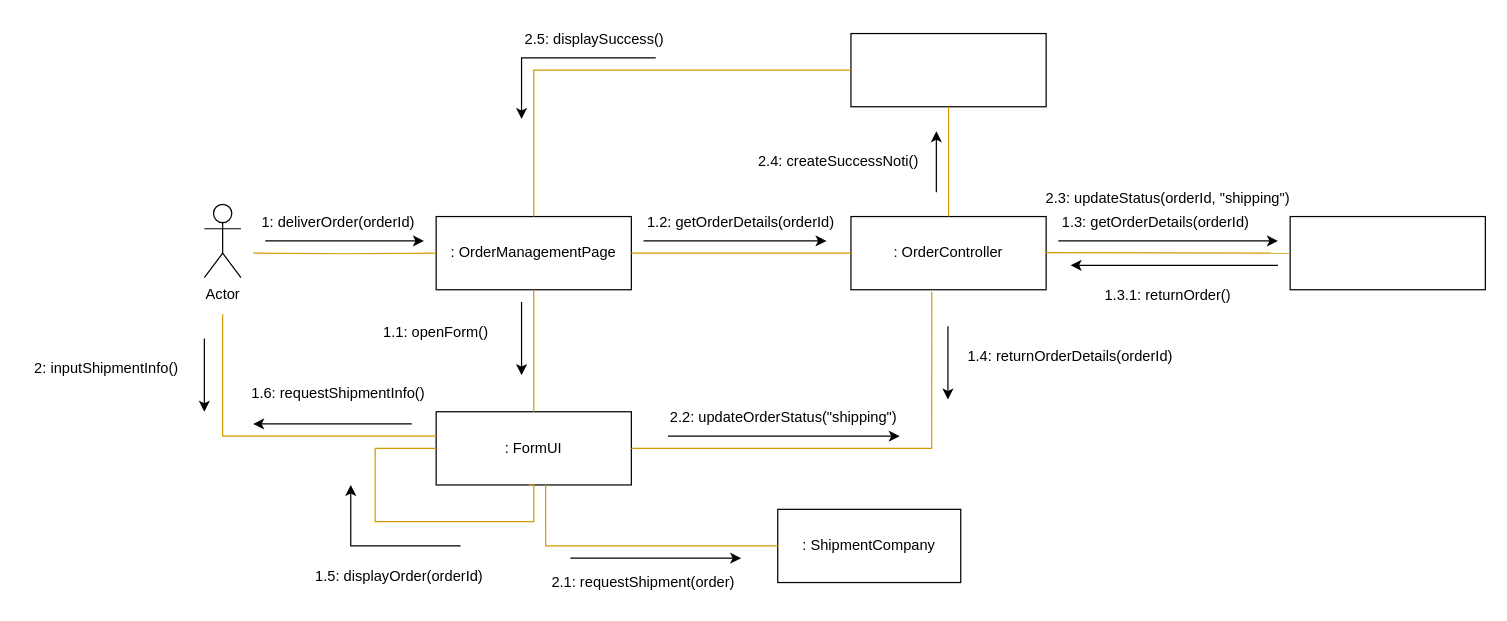
This 1507x621 diagram has some shape labels left out. The shapes that lost their labels are listed below. From the top down, each one's box as (x1, y1, x2, y2) in pixels, then its label:
(850, 32, 1046, 107): : NotificationModule
(1289, 215, 1485, 290): : Database
